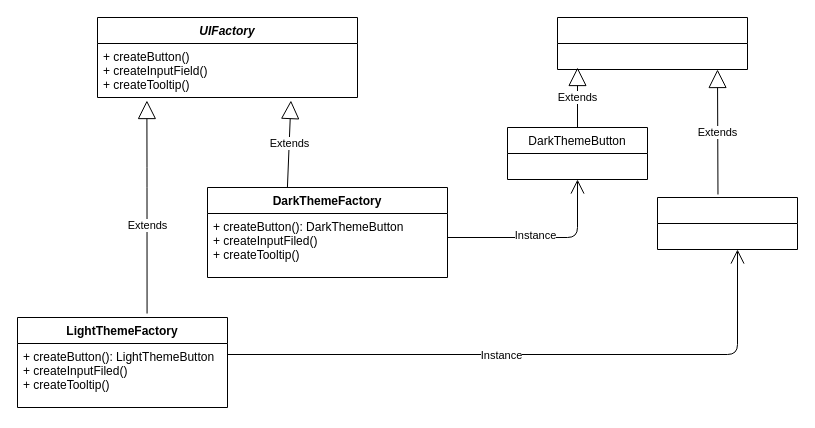
Some shapes in this 815 by 428 pixel diagram are drawn without their labels. The centre of each missing label's shape, as x and y in pixels:
Button: the point at 652,43
LightThemeButton: the point at 727,223
